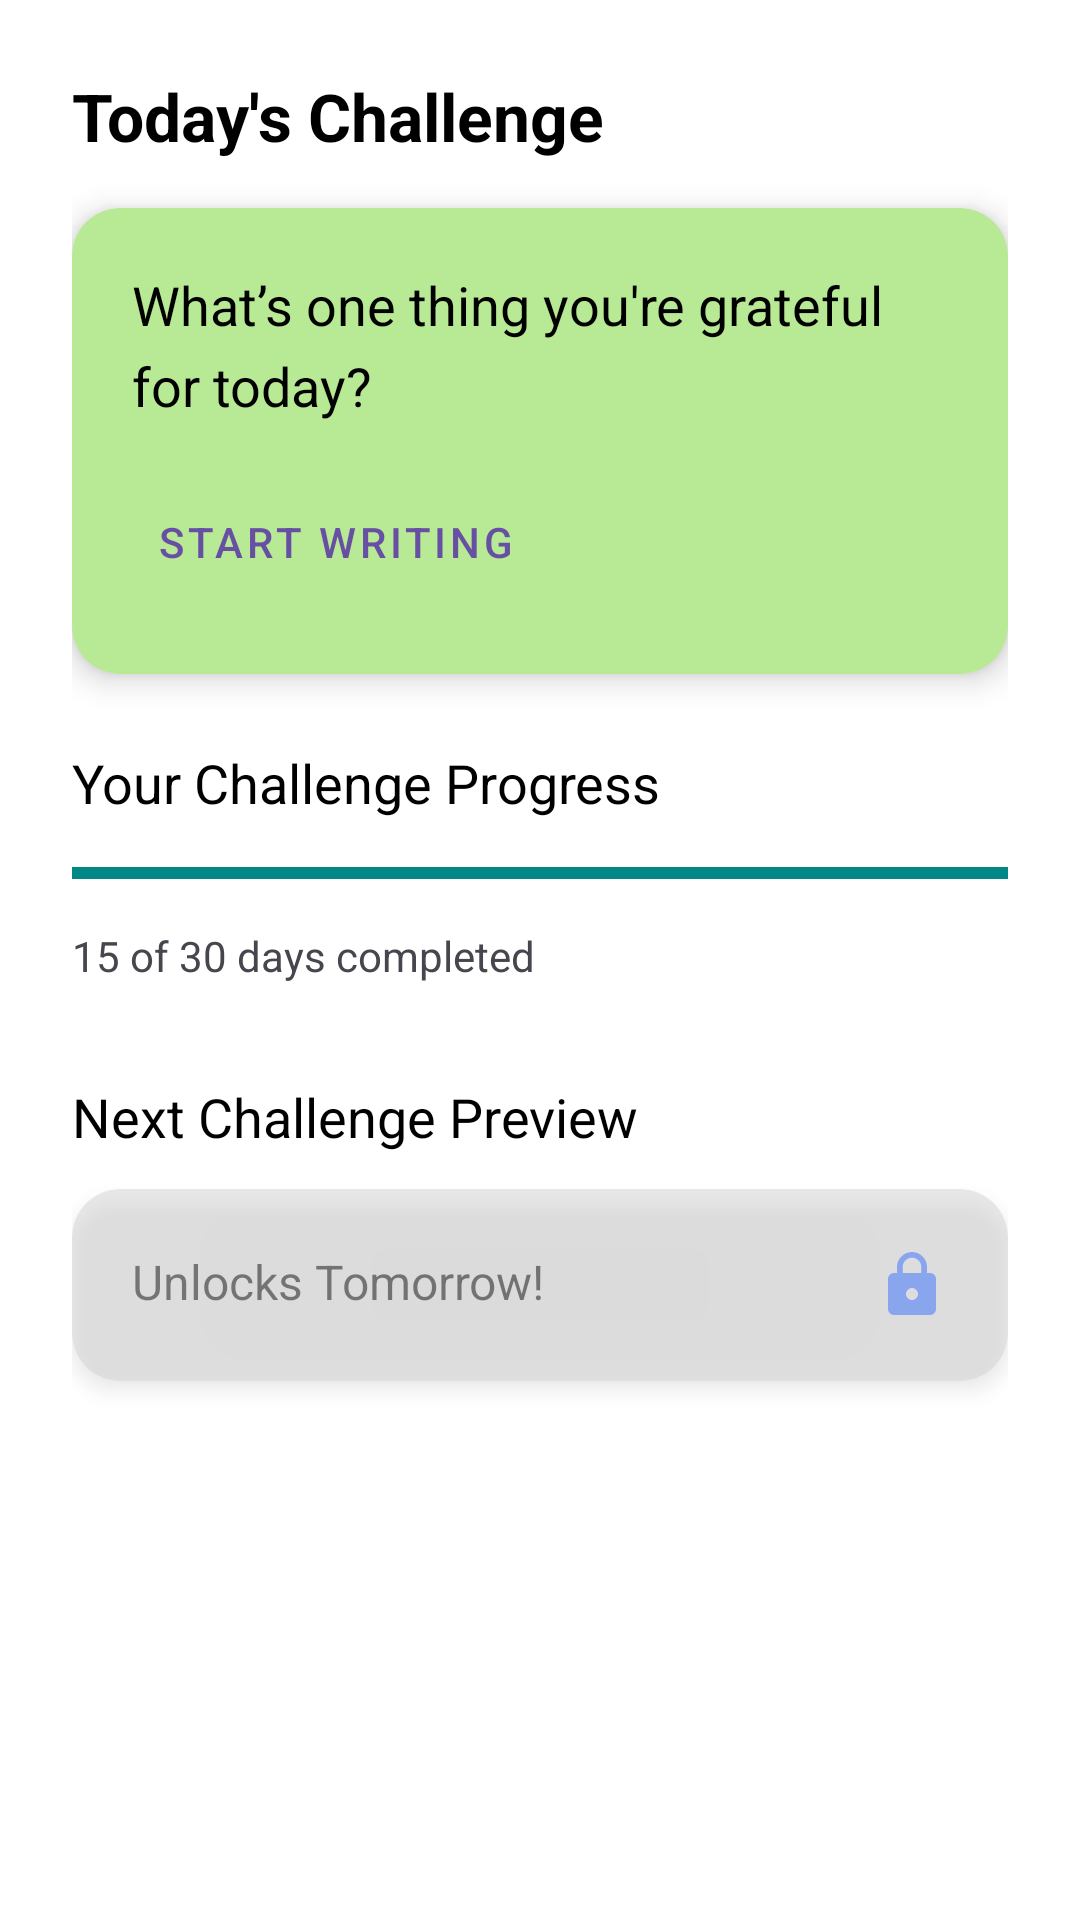

Icon click points for this 1080*1920 phone screenshot, format [x,y]:
lock: [912,1283]
